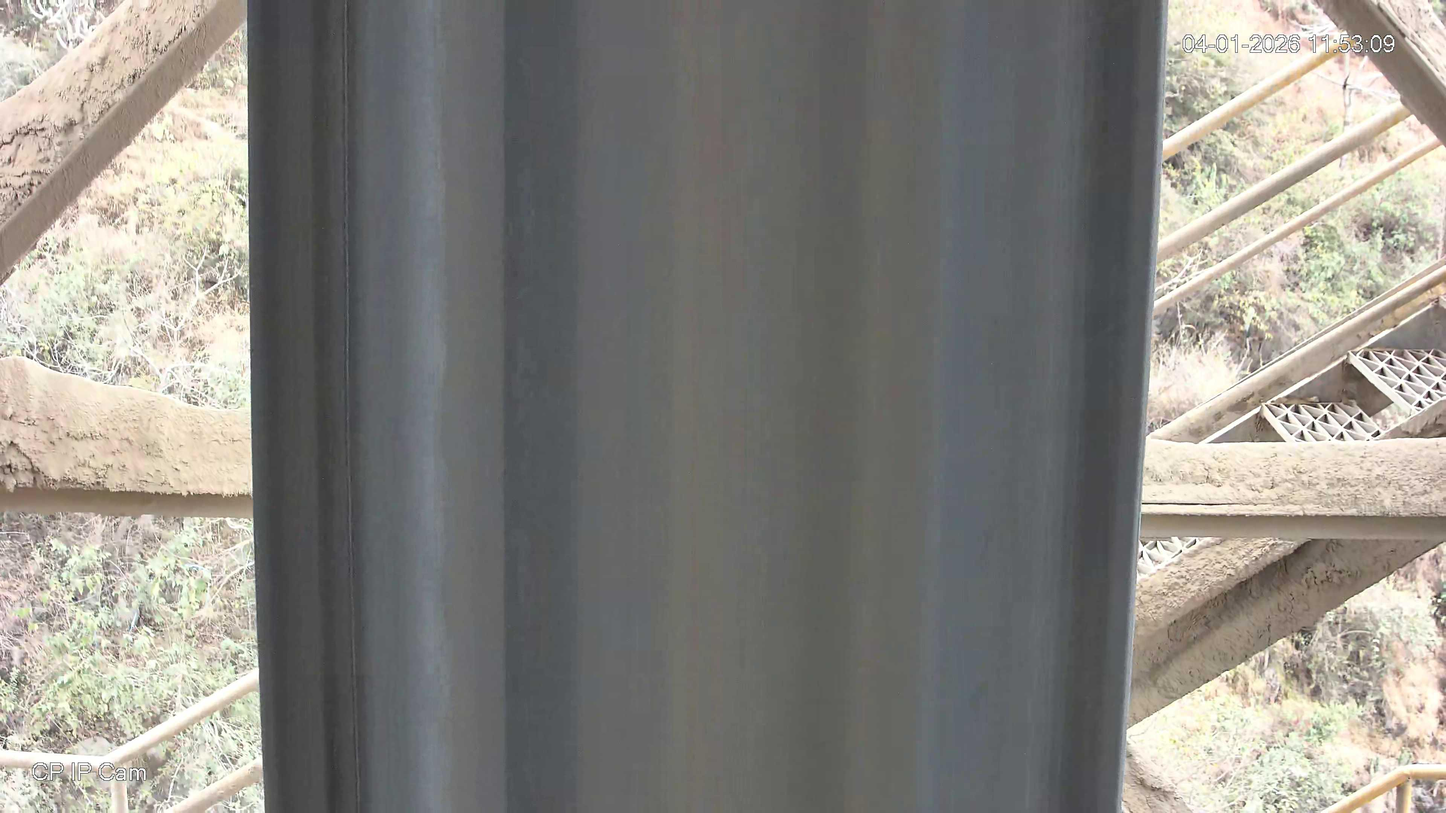belt_roi: (242, 0, 1171, 813)
